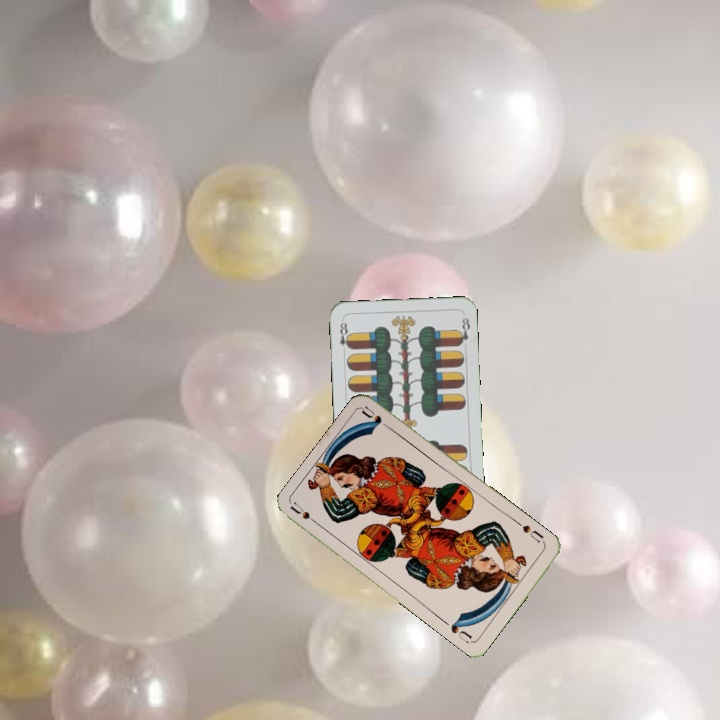E8: (336, 316, 353, 351)
SU: (287, 499, 324, 530), (513, 518, 548, 547)
